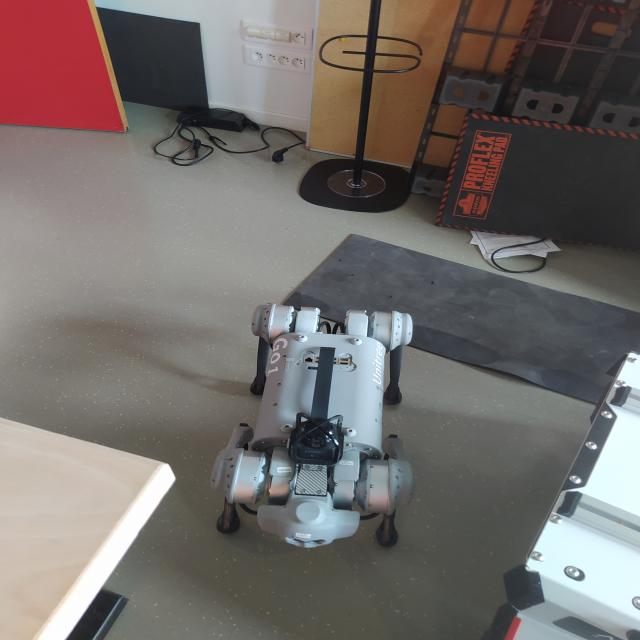unitree-go1-robot: (210, 305, 410, 554)
